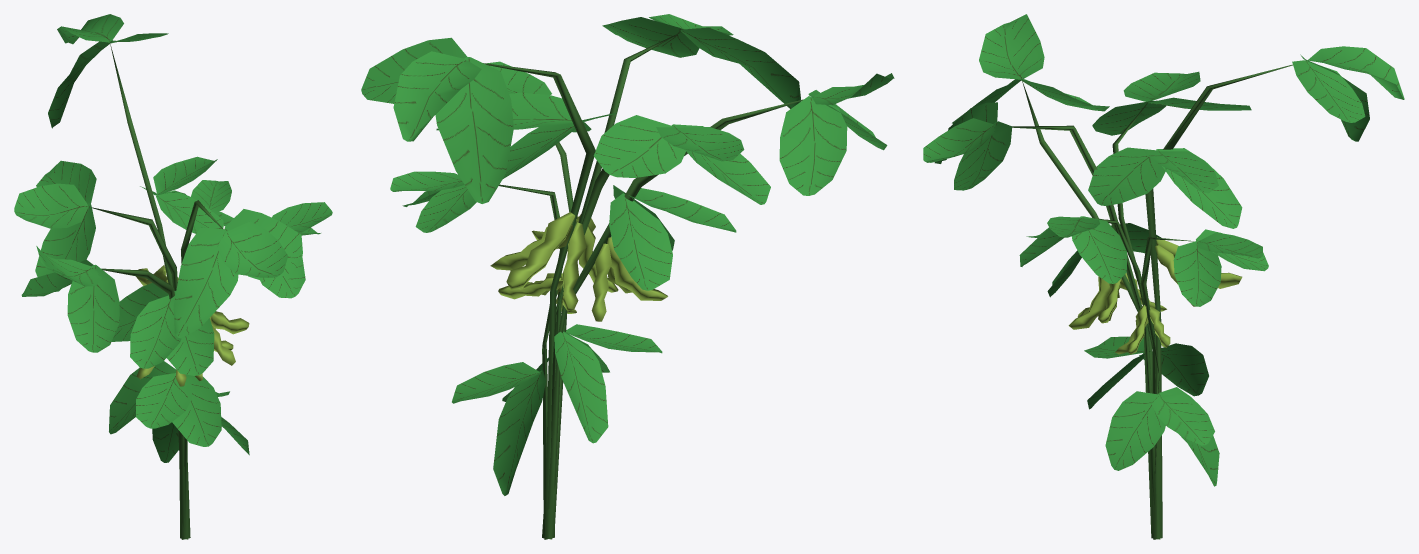
The model's file is soybean_dead.obj.
The picture shows the model from 3 angles, left to right: view 1: azimuth 30°, elevation 25°; view 2: azimuth 150°, elevation 25°; view 3: azimuth 270°, elevation 25°; orthographic projection. The views are drawn at different scales.
Visible parts, largest first — view 1: Circle.011_Circle.015; view 2: Circle.011_Circle.015; view 3: Circle.011_Circle.015.
Part boxes in pixels (x1,y1,x2,y2): Circle.011_Circle.015: (14,14,332,539); Circle.011_Circle.015: (361,14,894,539); Circle.011_Circle.015: (923,14,1404,539).
Size of the model in its own units: 0.5163 by 0.6881 by 0.6194.
1 material, 1 textured.
